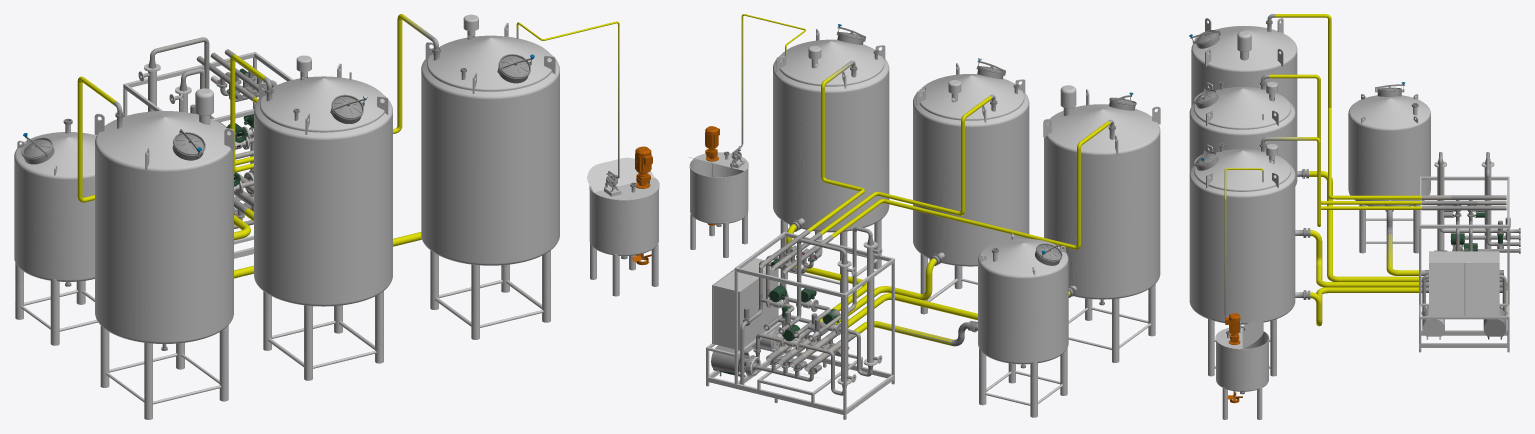
File: test_industrial_4.glb
3 renders of one model, left to right at view 1: azimuth 30°, elevation 25°; view 2: azimuth 150°, elevation 25°; view 3: azimuth 270°, elevation 25°, orthographic. The views are drawn at different scales.
Parts seen in each view (by area): view 1: node; view 2: node; view 3: node, control_panel_entry.
Part boxes in pixels (x1,y1,x2,y2): node: [14, 14, 659, 419]; node: [689, 14, 1160, 419]; node: [1189, 14, 1520, 419]; control_panel_entry: [1429, 263, 1499, 316].
Size of the model in its own units: 8.22 by 4.17 by 5.63.
